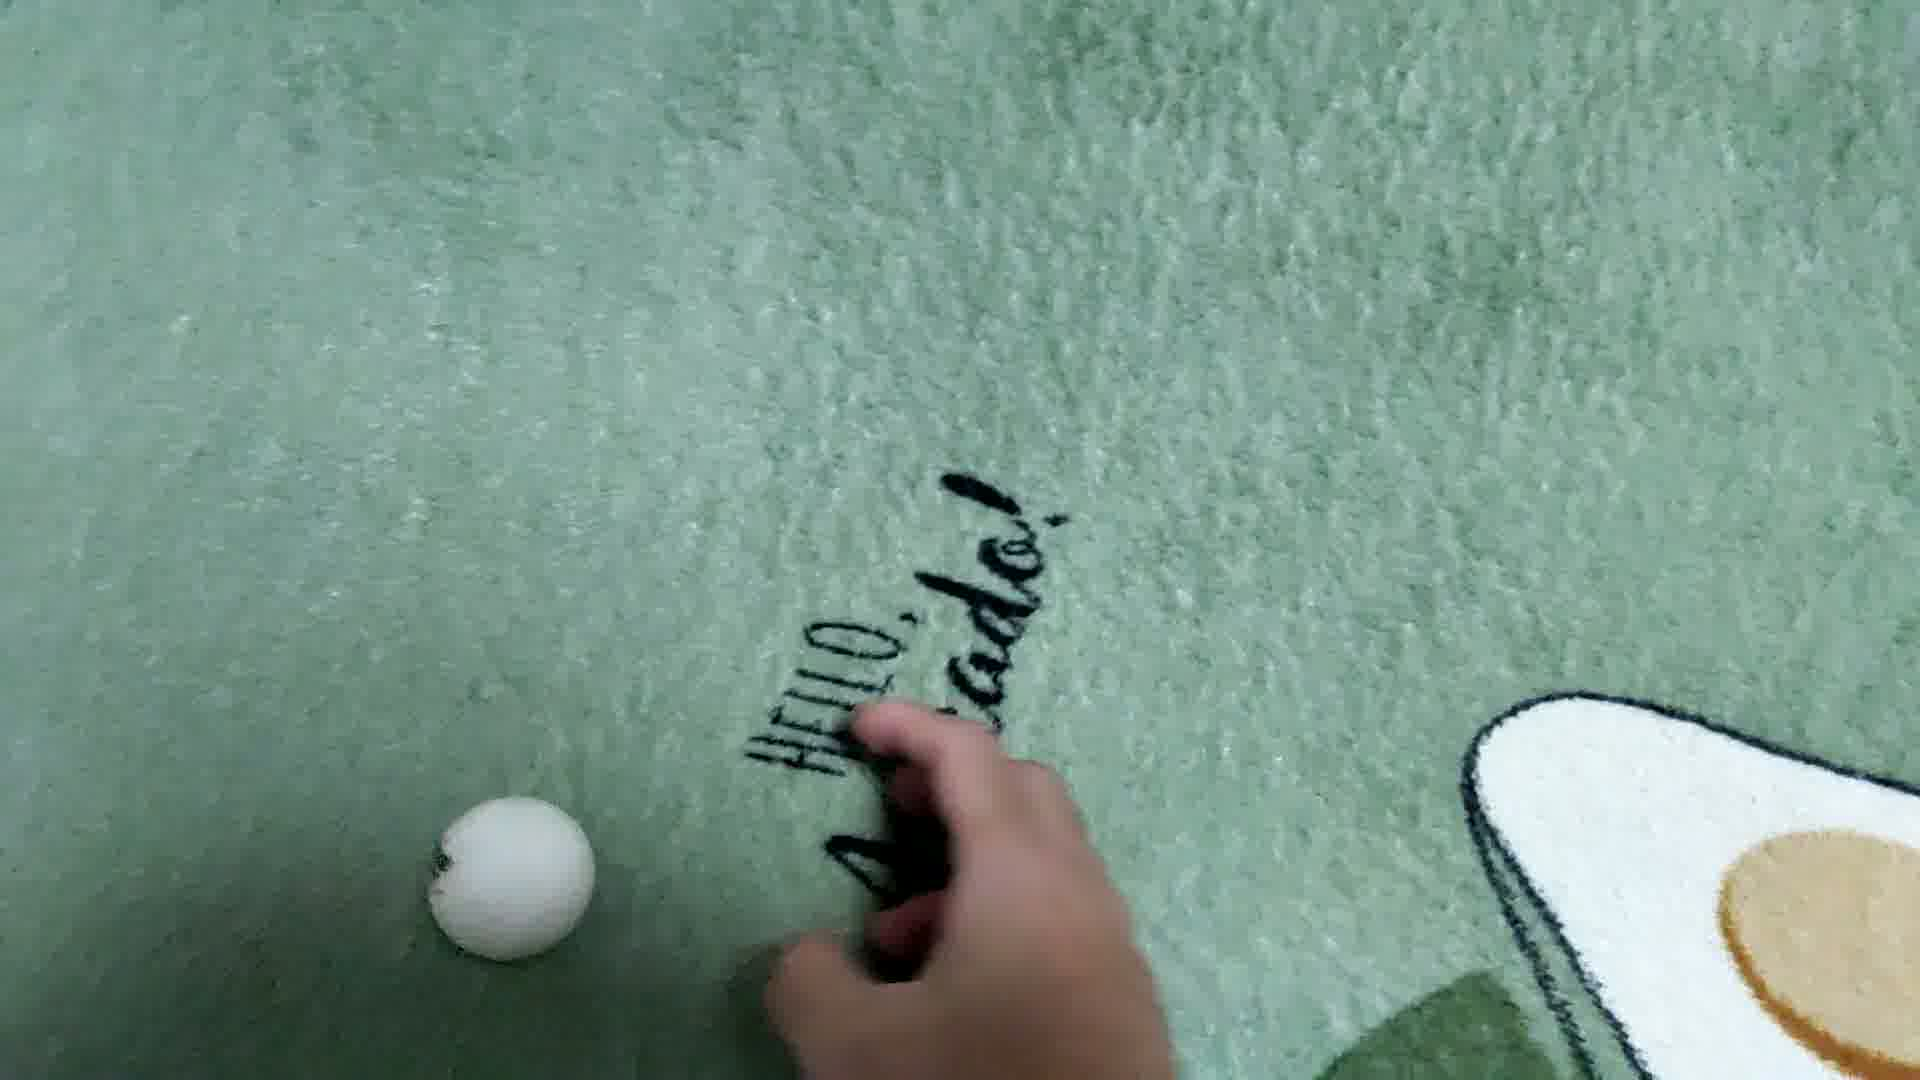Ball: (425, 793, 596, 963)
